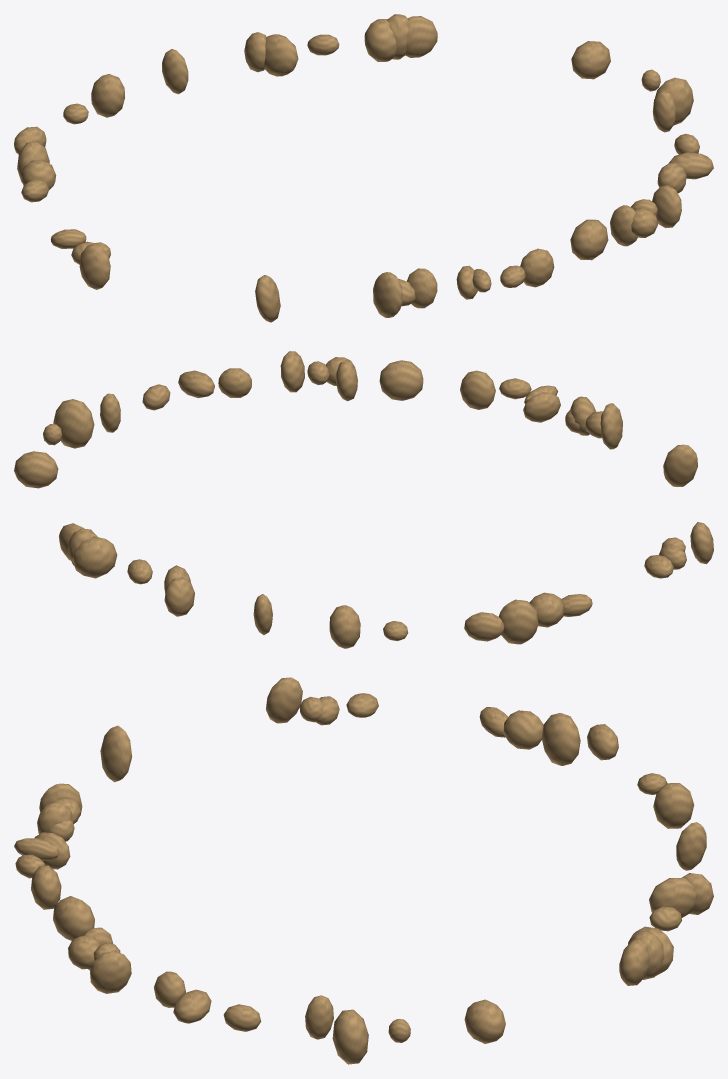
Rendered from Coastal_Rocks.fbx.
The picture shows the model from 3 angles, top to bottom: view 1: azimuth 30°, elevation 25°; view 2: azimuth 150°, elevation 25°; view 3: azimuth 270°, elevation 25°; orthographic projection. The views are drawn at different scales.
Parts seen in each view (by area): view 1: Coastal_Rocks; view 2: Coastal_Rocks; view 3: Coastal_Rocks.
Part boxes in pixels (x1,y1,x2,y2): Coastal_Rocks: [14, 14, 713, 322]; Coastal_Rocks: [14, 351, 713, 648]; Coastal_Rocks: [14, 677, 713, 1064].
Bounding box in the file's own units: 7709 × 6584 × 603.
